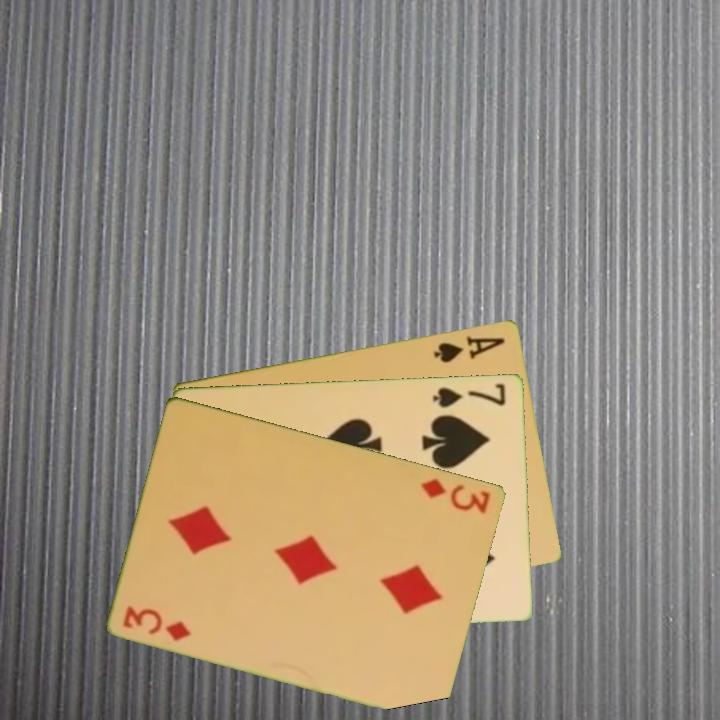3d: (418, 474, 494, 516), (120, 602, 194, 644)
7s: (430, 380, 509, 410)
As: (430, 332, 508, 365)
